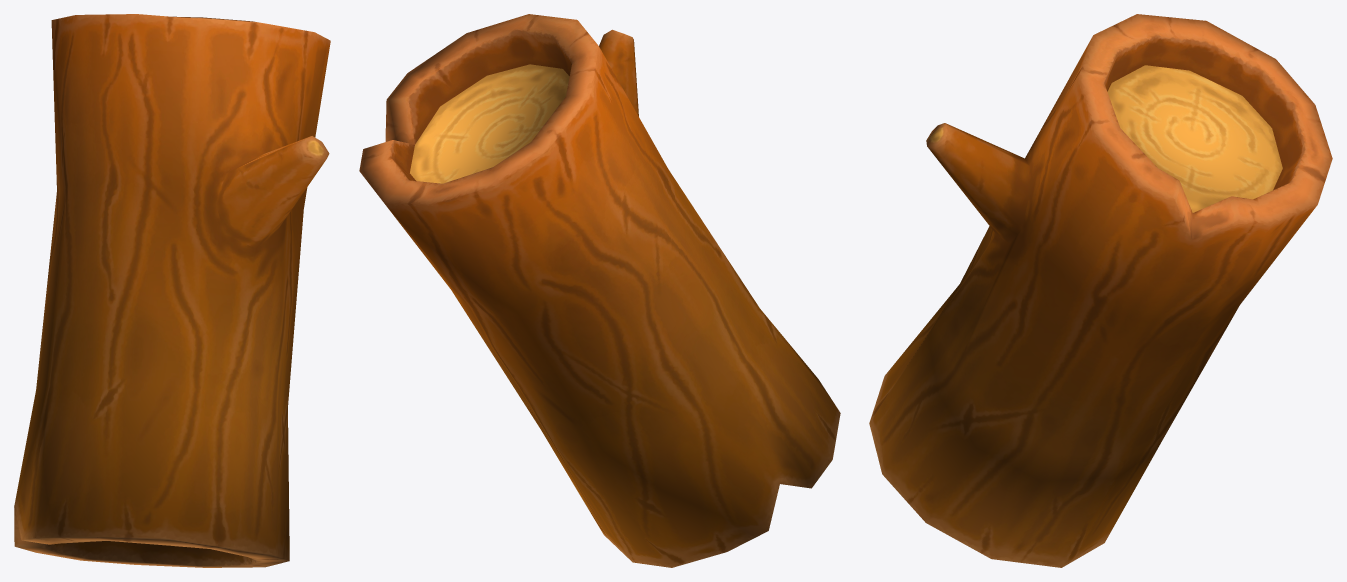
The model's file is log.glb.
3 views of the same model, side by side, from view 1: azimuth 30°, elevation 25°; view 2: azimuth 150°, elevation 25°; view 3: azimuth 270°, elevation 25° (orthographic). The views are drawn at different scales.
Parts seen in each view (by area): view 1: log_low; view 2: log_low; view 3: log_low.
Boxes of the visible parts, x1=… form: log_low: x1=14, y1=14, x2=330, y2=567; log_low: x1=359, y1=14, x2=840, y2=567; log_low: x1=869, y1=14, x2=1332, y2=567.
Size of the model in its own units: 2.99 by 4.16 by 3.24.
1 material, 1 textured.
